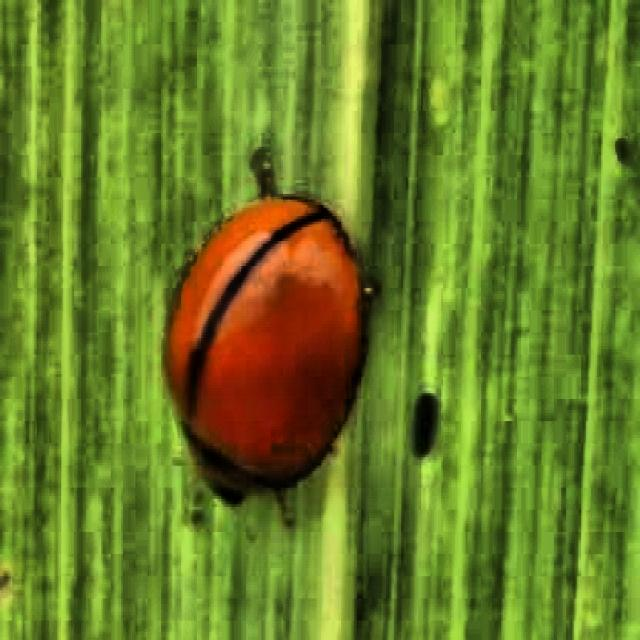Ladybug: (114, 105, 392, 607)
